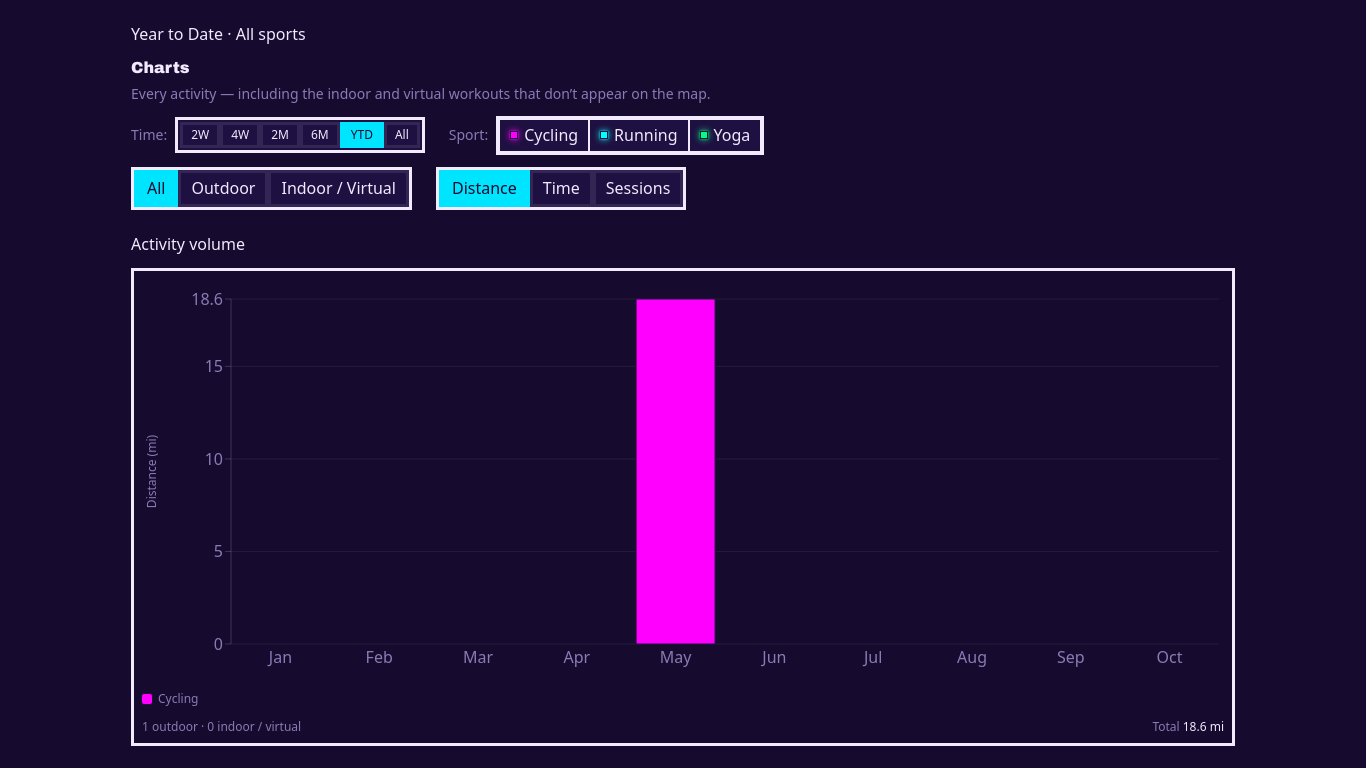
Test: ChartsPage › filters to indoor/virtual only via the type control, noting when none exist
This screenshot has width=1366, height=768.
Click the button "Indoor / Virtual": {"x": 339, "y": 188} [268,170,409,207]
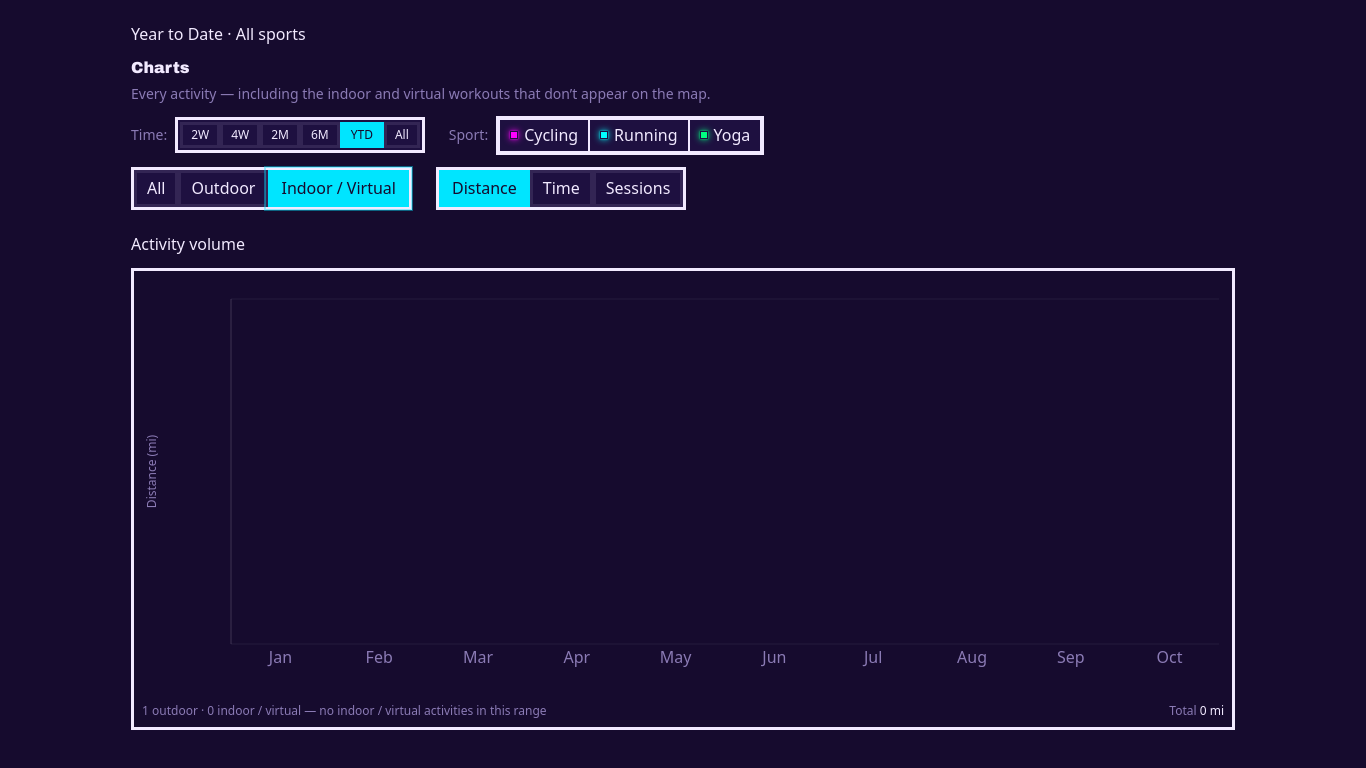
Expected: the text "1 outdoor · 0 indoor / virtual" is shown, [142,703,547,719]
Expected: the text "— no indoor / virtual activities in this range" is shown, [301,702,547,719]
